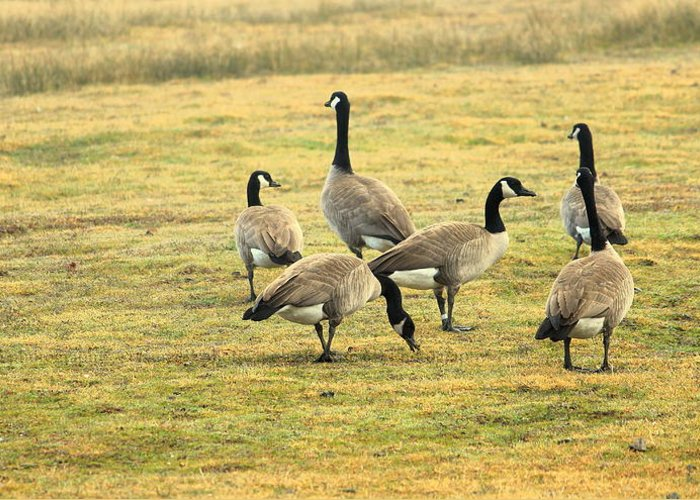goose: (357, 171, 539, 334), (531, 167, 638, 388), (237, 249, 420, 361), (317, 88, 425, 269), (232, 167, 305, 299), (558, 119, 629, 252)
